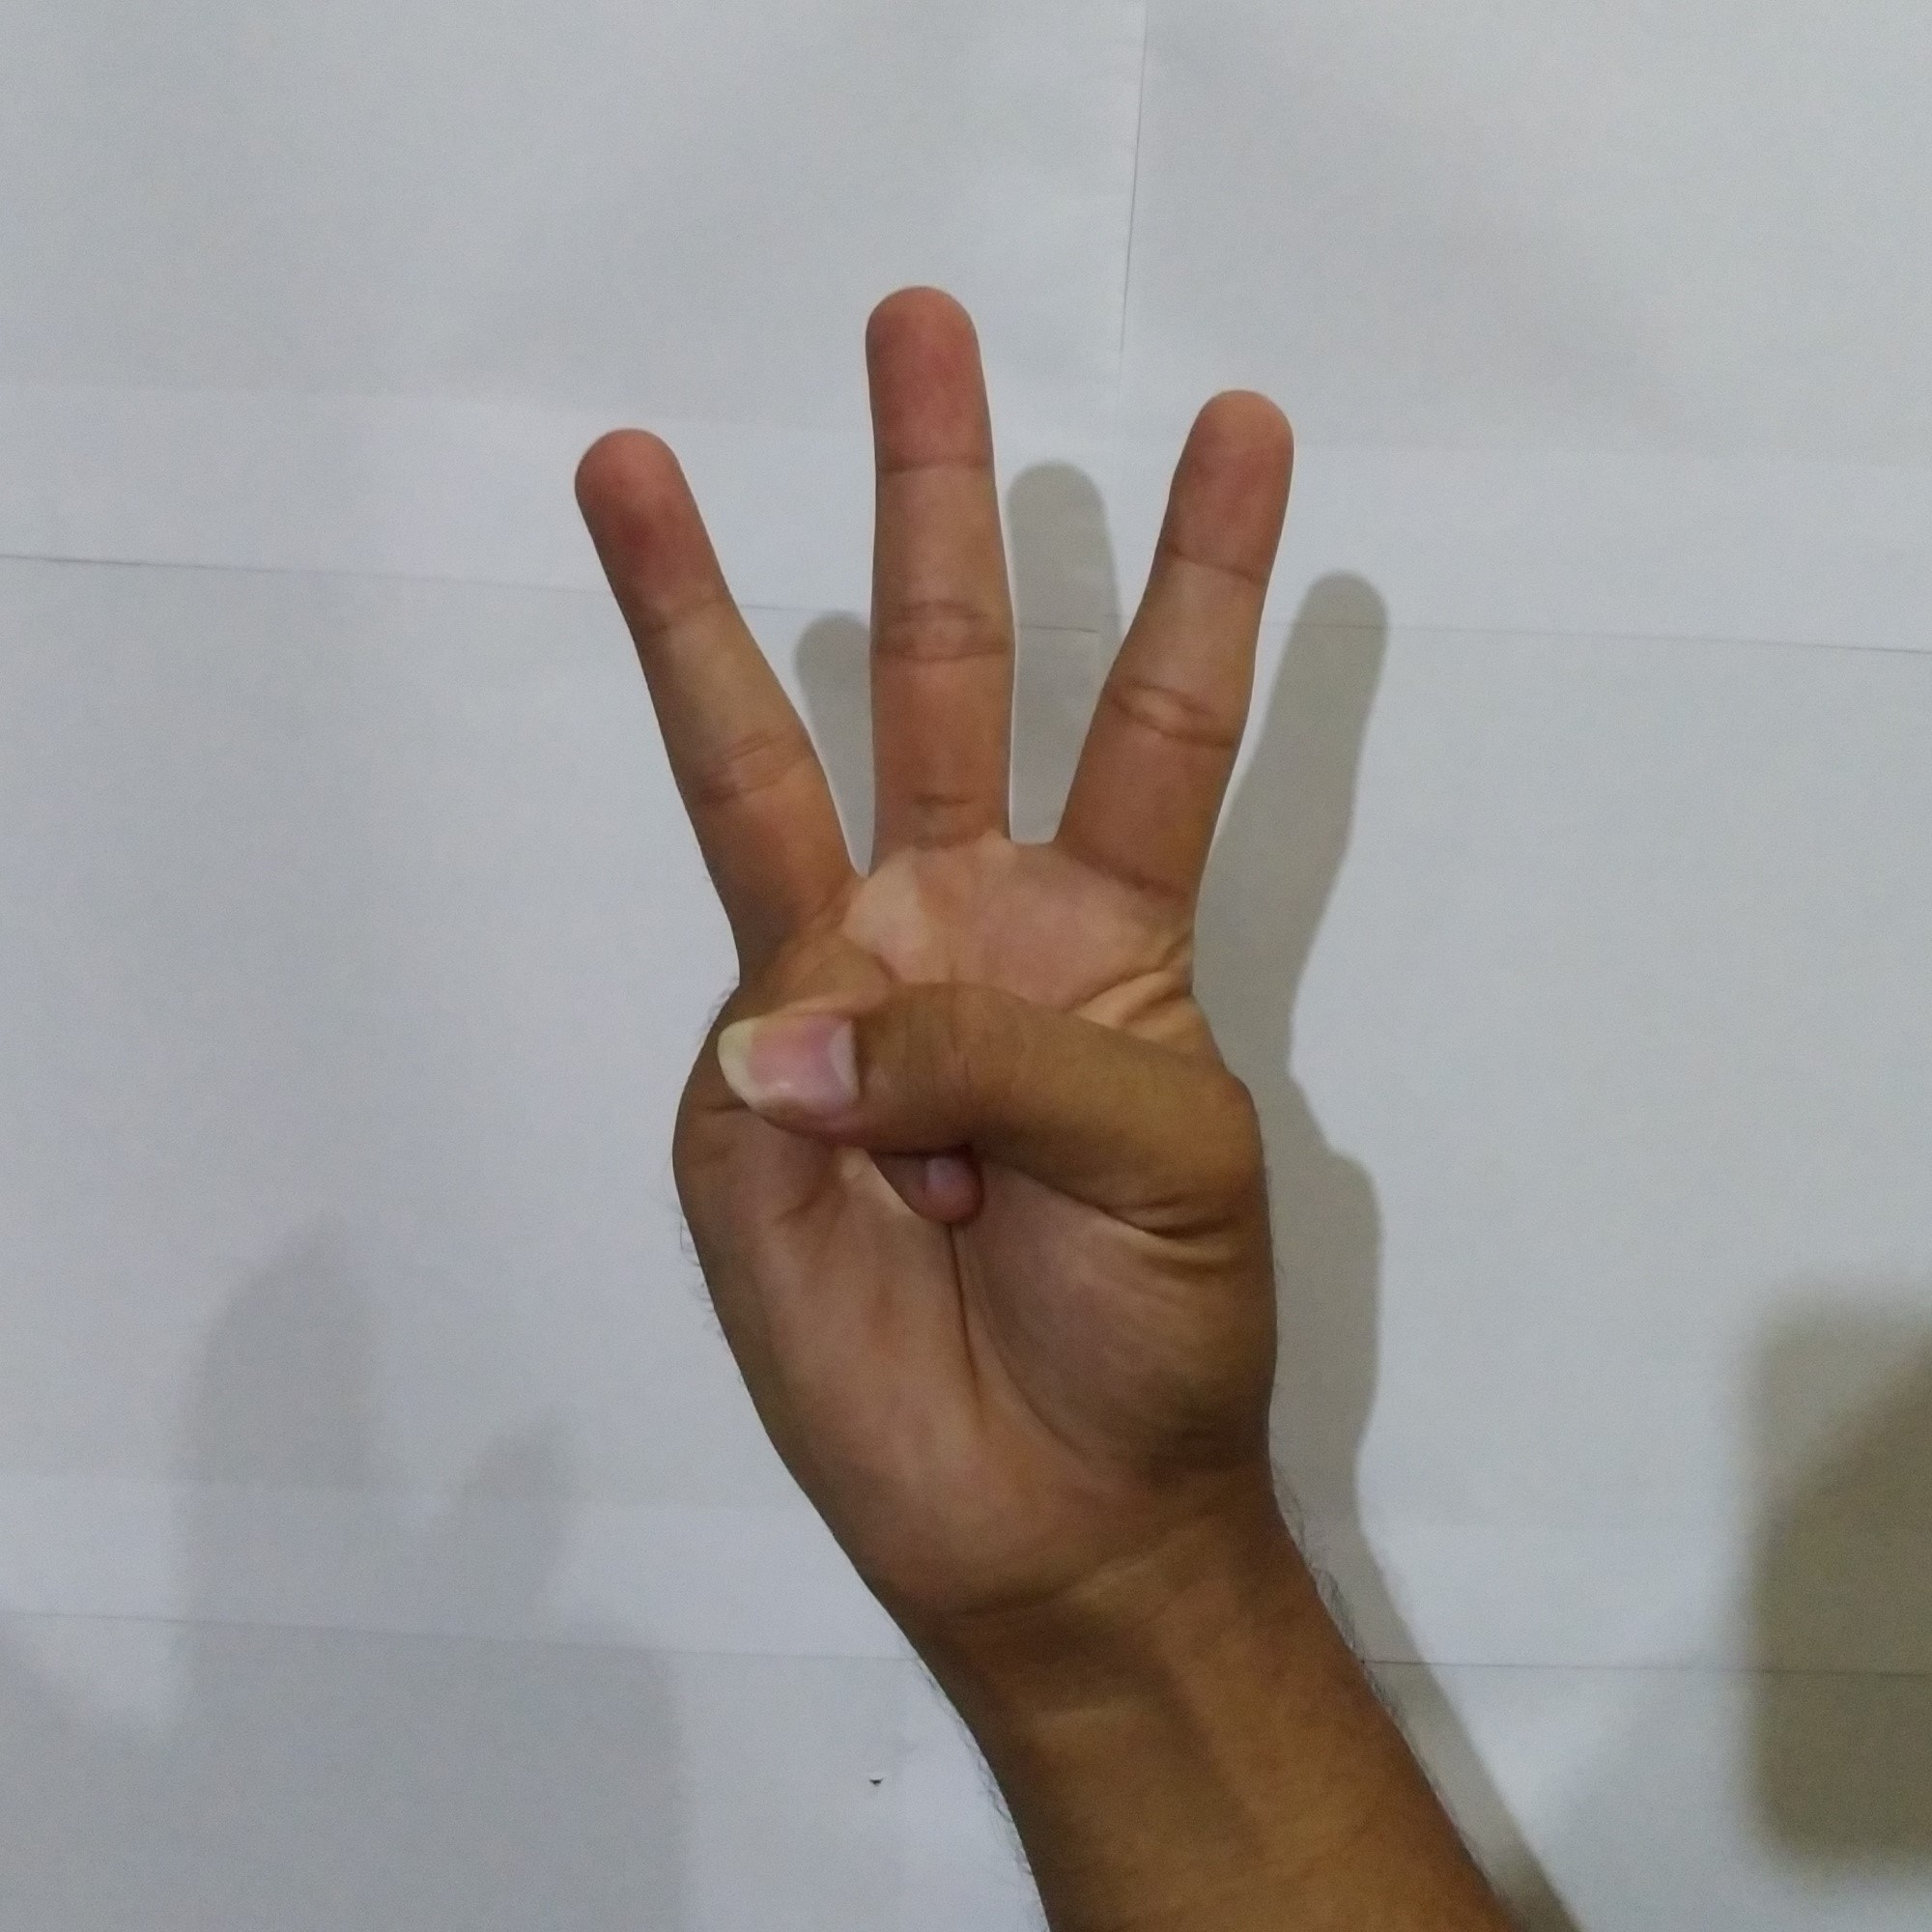W: (550, 258, 1327, 1601)
